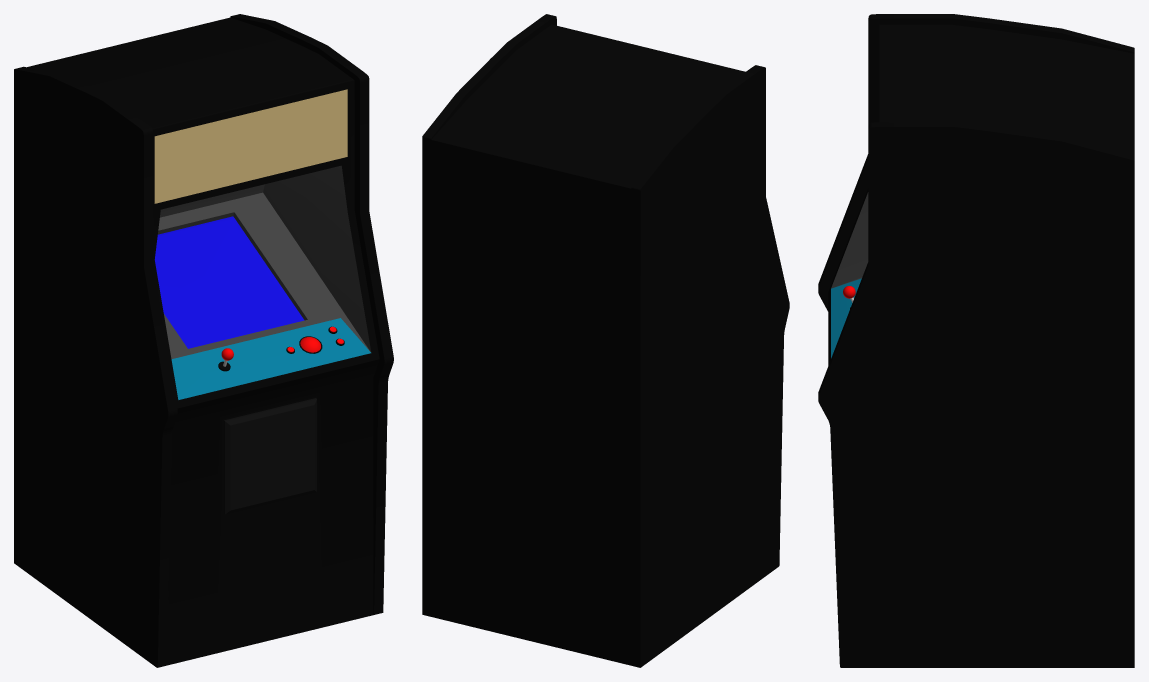
The model's file is cabinet 1.FBX.
3 views of the same model, side by side, from view 1: azimuth 30°, elevation 25°; view 2: azimuth 150°, elevation 25°; view 3: azimuth 270°, elevation 25° (orthographic). The views are drawn at different scales.
Visible parts, largest first — view 1: Box001; view 2: Box001; view 3: Box001.
Part boxes in pixels (x1,y1,x2,y2): Box001: [14, 14, 393, 667]; Box001: [422, 14, 789, 667]; Box001: [818, 14, 1134, 667].
Bounding box in the file's own units: 32.63 × 72.87 × 38.65.
